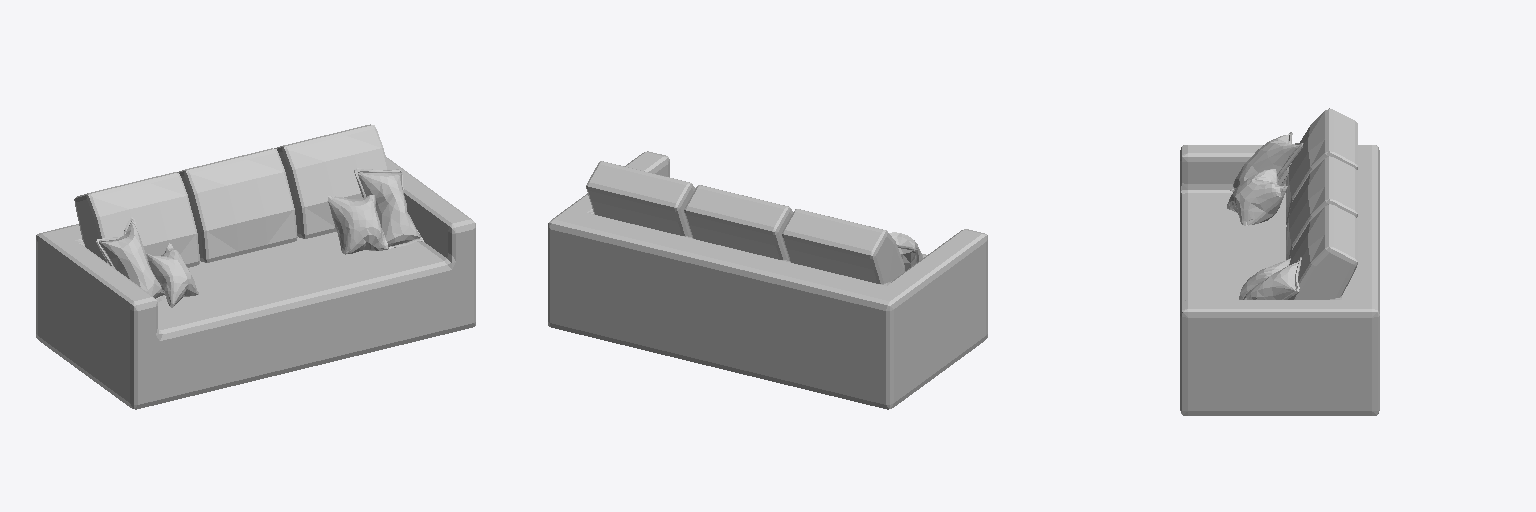
Rendered from sofa.obj.
The picture shows the model from 3 angles: view 1: azimuth 30°, elevation 25°; view 2: azimuth 150°, elevation 25°; view 3: azimuth 270°, elevation 25°; orthographic projection.
Parts seen in each view (by area): view 1: Rectangle001; view 2: Rectangle001; view 3: Rectangle001.
Boxes of the visible parts, x1=… form: Rectangle001: x1=36, y1=124, x2=475, y2=409; Rectangle001: x1=548, y1=151, x2=987, y2=409; Rectangle001: x1=1180, y1=108, x2=1379, y2=415.
Bounding box in the file's own units: 2.14 × 0.9288 × 1.07.